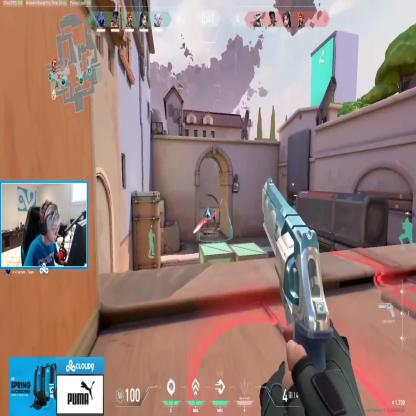enemy: (203, 210, 208, 228), (213, 209, 216, 224)
enemy_head: (204, 210, 206, 214), (214, 209, 215, 213)
